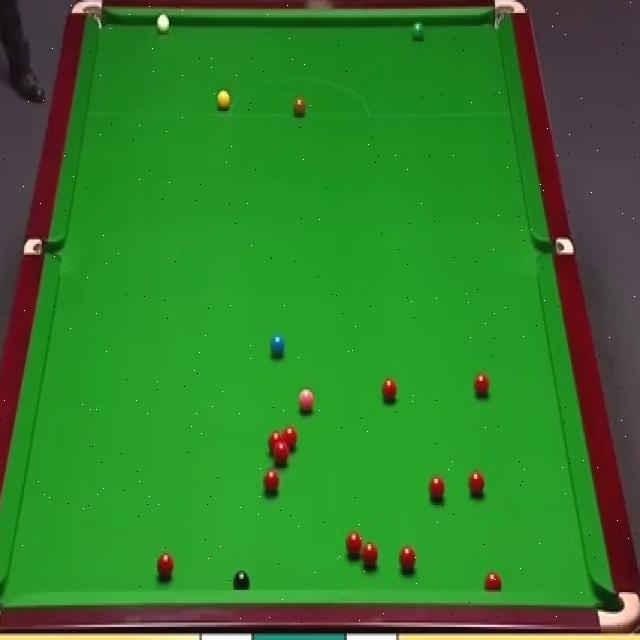black-ball: (232, 570, 252, 592)
blue-ball: (269, 333, 287, 356)
brown-ball: (292, 93, 306, 116)
green-ball: (410, 22, 426, 42)
pink-ball: (298, 388, 316, 416)
red-ball: (398, 546, 418, 575), (428, 475, 448, 503), (155, 551, 174, 580), (362, 538, 379, 570), (381, 374, 398, 404), (262, 469, 280, 496), (345, 532, 363, 559), (469, 470, 487, 497), (473, 372, 489, 399), (268, 431, 283, 458), (283, 426, 298, 452), (483, 570, 502, 589), (274, 445, 290, 466)
white-ball: (159, 30, 175, 48)
yellow-ball: (216, 92, 229, 109)
